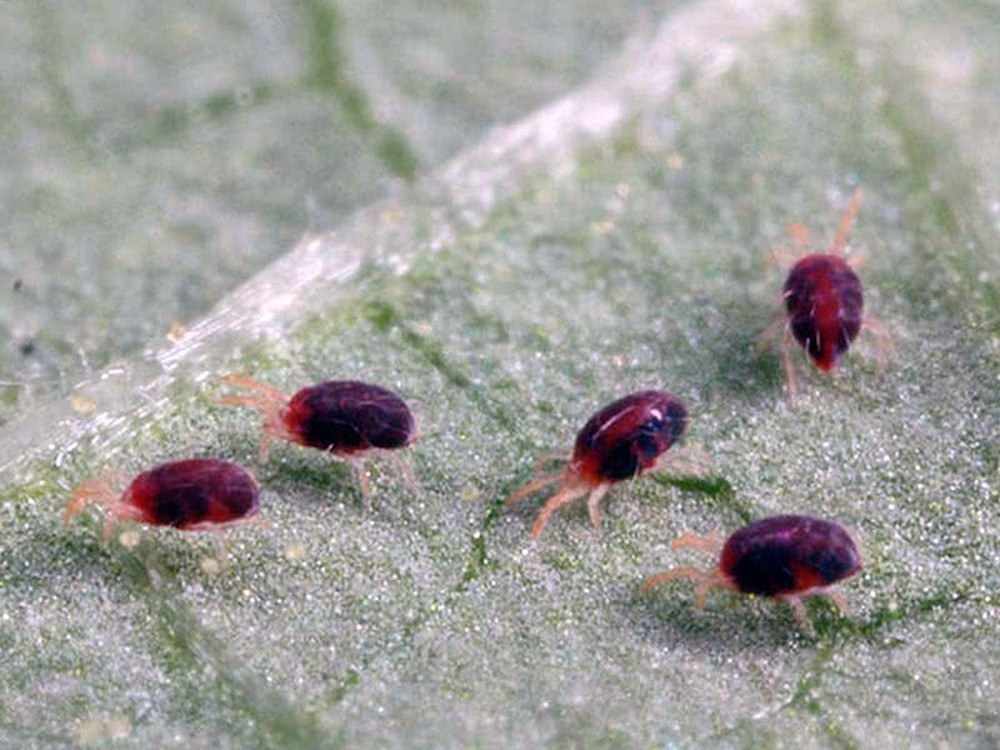Aracnido Rojo: (219, 353, 450, 515), (504, 370, 700, 542), (641, 500, 872, 636), (754, 197, 896, 397), (65, 435, 277, 561)
